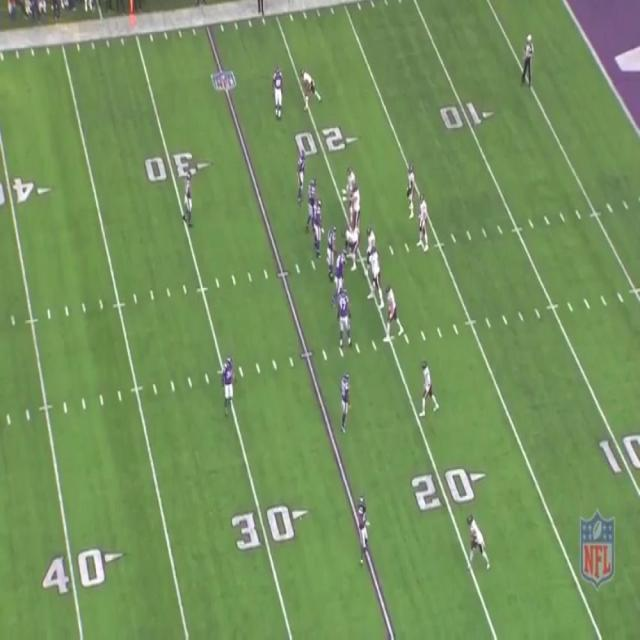center: (342, 229, 361, 270)
db: (221, 356, 237, 413), (360, 496, 372, 563), (273, 68, 286, 116), (184, 171, 194, 223), (339, 375, 347, 436)
lb: (295, 151, 304, 209), (326, 225, 335, 277)
qb: (417, 192, 432, 246)
